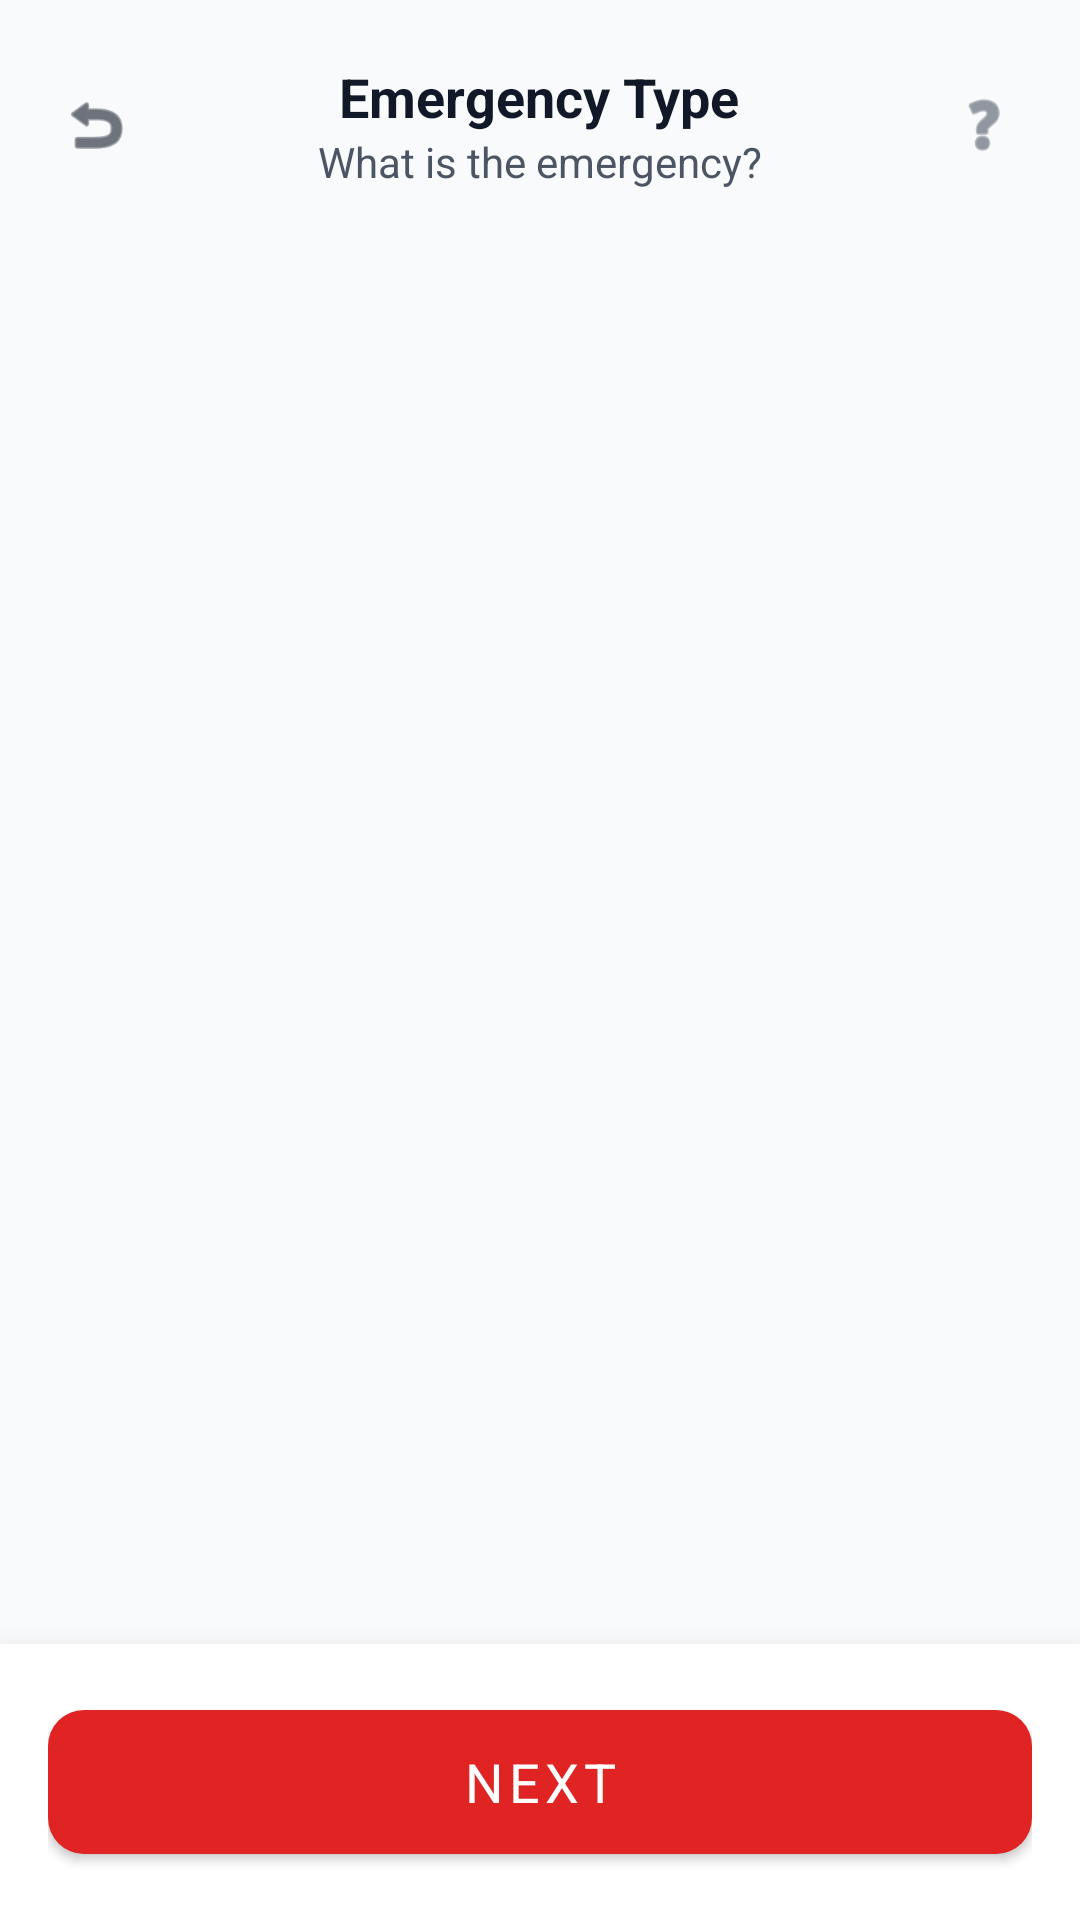

Icons on this 1080x1920 Android screen, each with its box as [x1=x1, y1=y1, x2=x2, y2=y2]:
help: [x1=968, y1=99, x2=1000, y2=151]
revert: [x1=71, y1=102, x2=123, y2=149]
